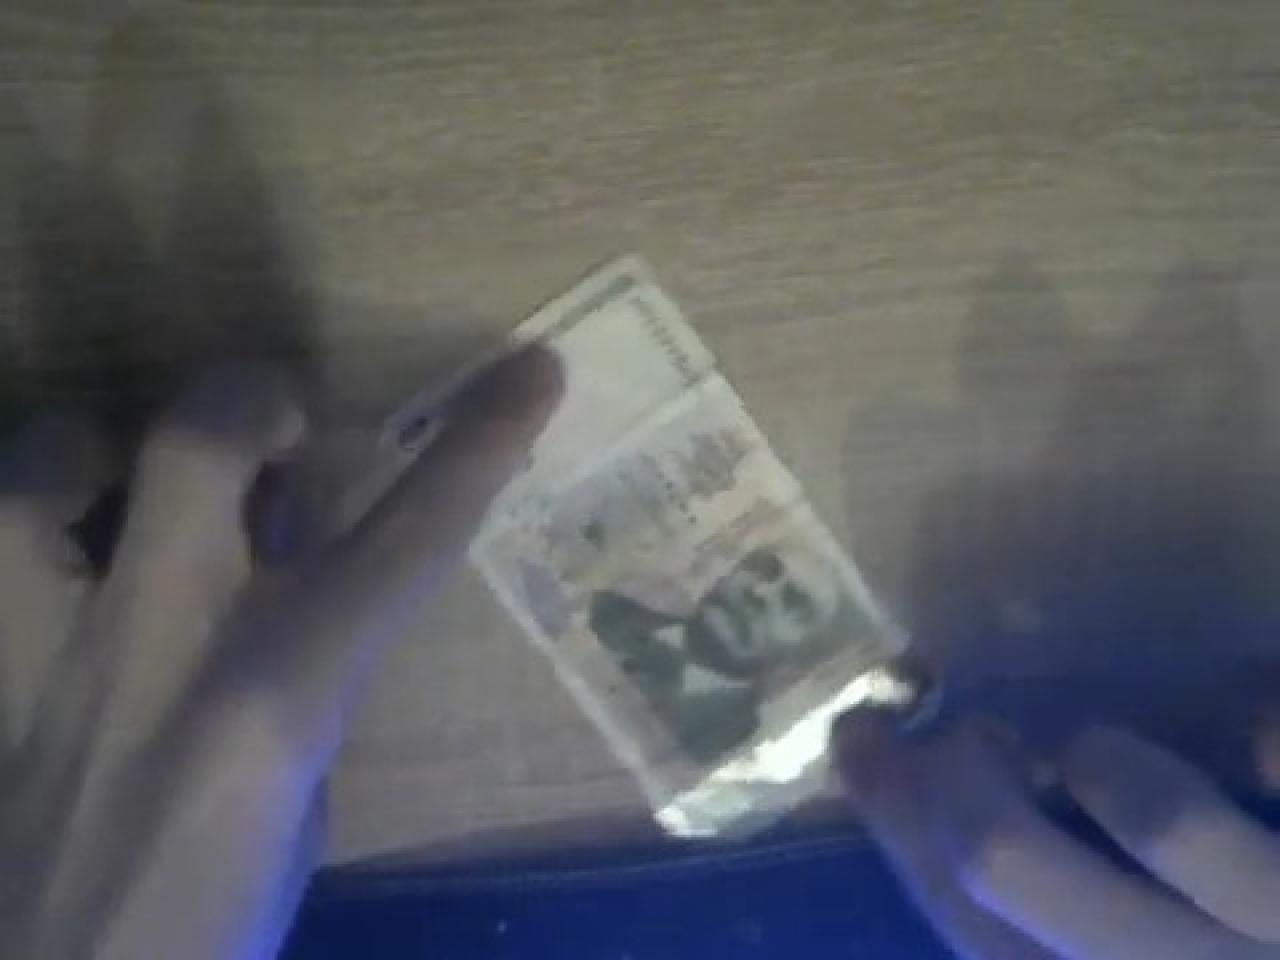10leva: (464, 251, 925, 843)
